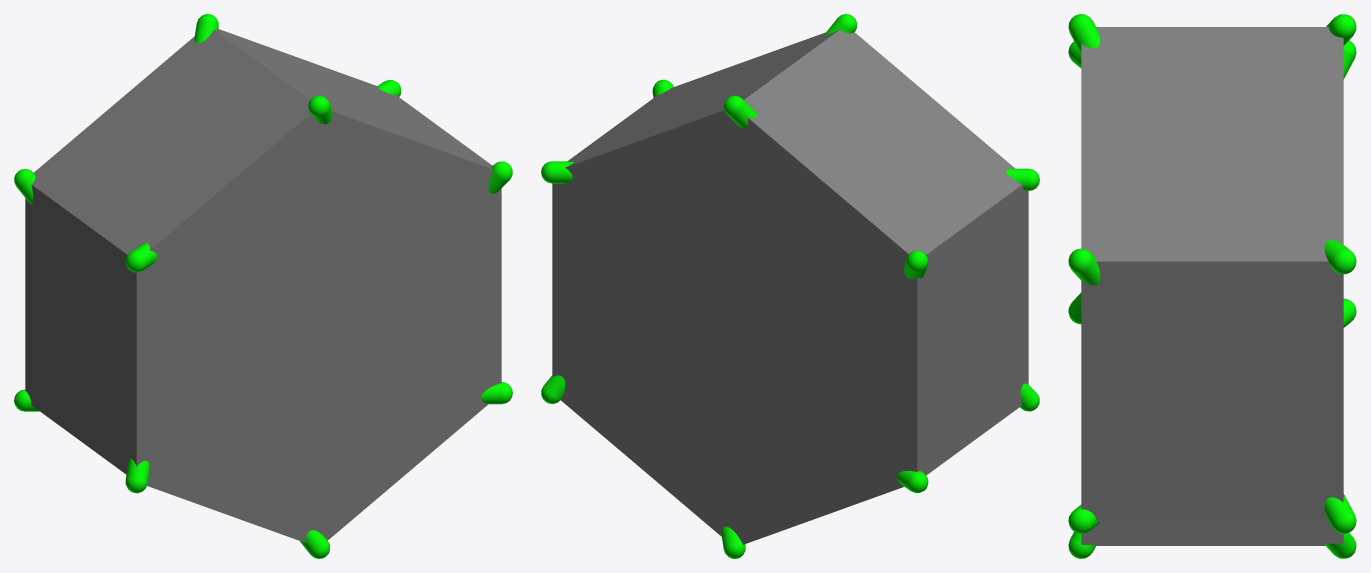
File: Vertex.fbx
3 renders of one model, left to right at view 1: azimuth 30°, elevation 25°; view 2: azimuth 150°, elevation 25°; view 3: azimuth 270°, elevation 25°, orthographic. The views are drawn at different scales.
Parts seen in each view (by area): view 1: Obj_000011, 物件_1, 物件_2, 物件_6, 物件_3; view 2: Obj_000011, 物件_6, 物件_1, 物件_5, 物件_4; view 3: Obj_000011, 物件_5, 物件_4, 物件_6, 物件_1, 物件_3, 物件_2.
Part boxes in pixels (<box>): Obj_000011: <box>25,29,501,542</box>; 物件_1: <box>125,14,218,493</box>; 物件_2: <box>14,169,329,558</box>; 物件_6: <box>125,79,401,272</box>; 物件_3: <box>14,382,512,411</box>; Obj_000011: <box>552,30,1028,544</box>; 物件_6: <box>541,161,1039,190</box>; 物件_1: <box>724,95,1039,411</box>; 物件_5: <box>541,14,856,403</box>; 物件_4: <box>652,79,745,558</box>; Obj_000011: <box>1081,27,1343,545</box>; 物件_5: <box>1068,14,1356,533</box>; 物件_4: <box>1068,248,1356,558</box>; 物件_6: <box>1068,41,1356,274</box>; 物件_1: <box>1068,14,1356,324</box>; 物件_3: <box>1068,298,1356,533</box>; 物件_2: <box>1068,40,1356,558</box>.
Bounding box in the file's own units: 524 × 289 × 601.
